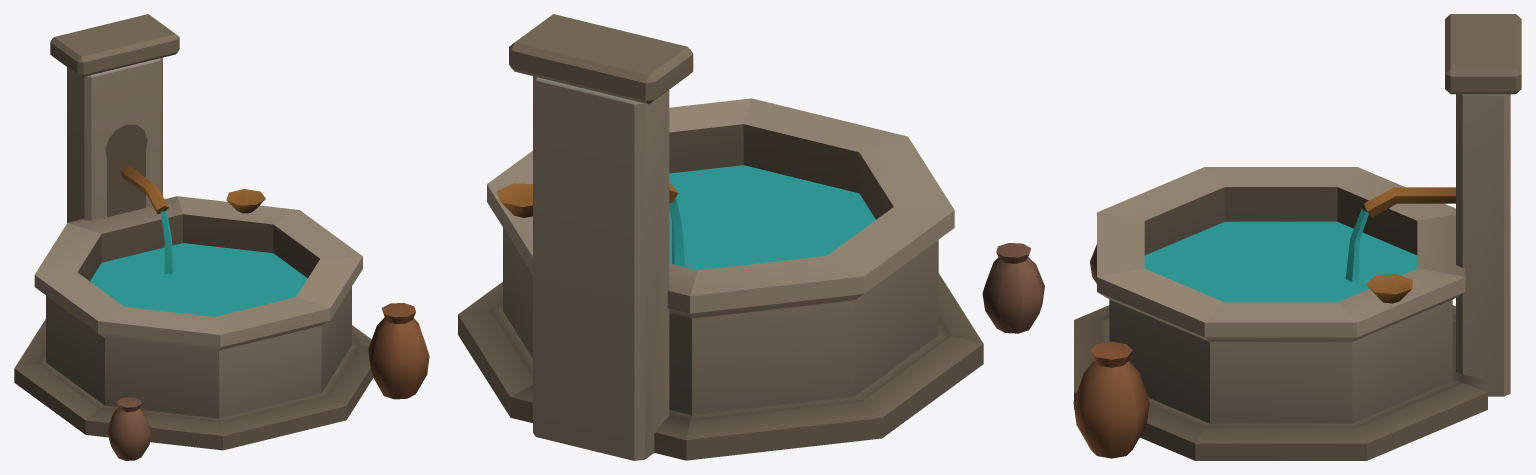
File: fontaine.glb
The picture shows the model from 3 angles, left to right: view 1: azimuth 30°, elevation 25°; view 2: azimuth 150°, elevation 25°; view 3: azimuth 270°, elevation 25°; orthographic projection. The views are drawn at different scales.
Parts seen in each view (by area): view 1: fontaine, eau; view 2: fontaine, eau; view 3: fontaine, eau.
Part boxes in pixels (bbox=[...]): fontaine: bbox=[14, 14, 429, 460]; eau: bbox=[90, 243, 307, 316]; fontaine: bbox=[458, 14, 1044, 460]; eau: bbox=[669, 165, 875, 270]; fontaine: bbox=[1073, 14, 1521, 460]; eau: bbox=[1144, 221, 1417, 302].
Size of the model in its own units: 0.8 by 0.67 by 0.82.
